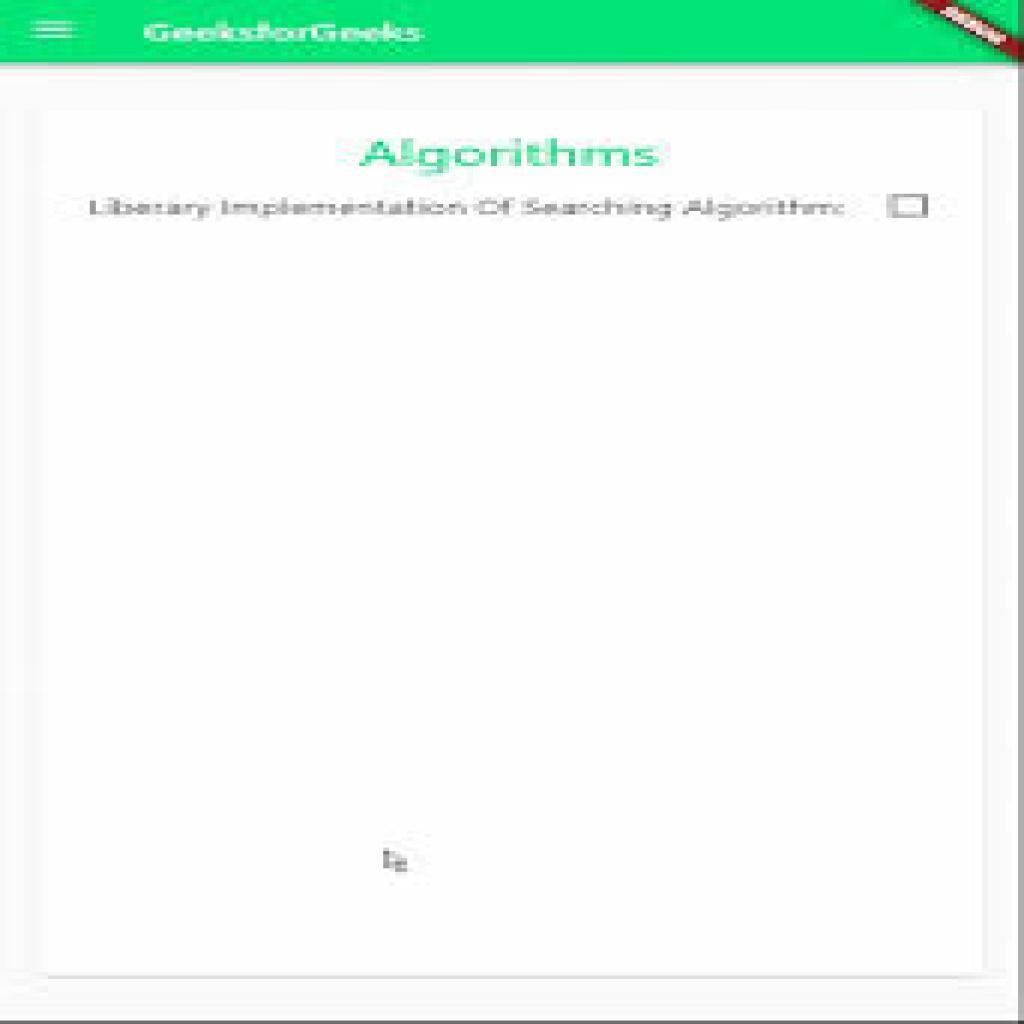checkbox: (892, 194, 930, 219)
